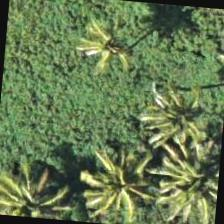Kelapa_Sawit: (57, 5, 155, 102), (130, 73, 223, 172), (80, 143, 178, 223), (155, 134, 222, 223), (0, 162, 92, 222)
